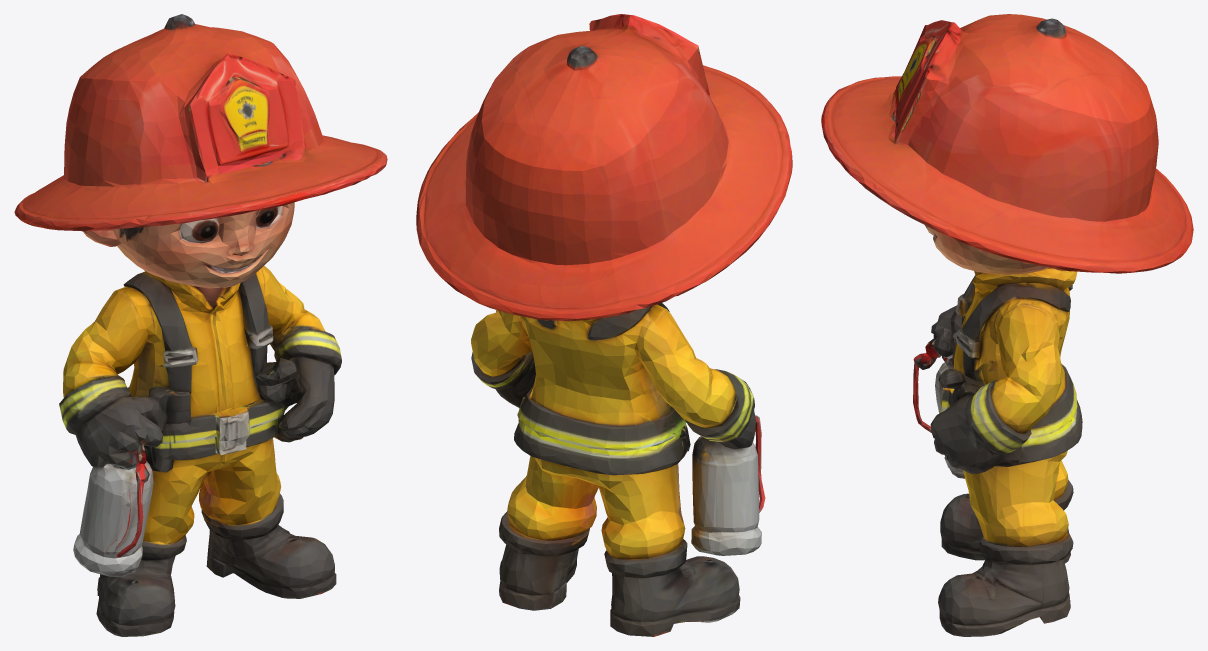
File: 카툰_느낌의_어린_0522005021_texture.fbx
3 renders of one model, left to right at view 1: azimuth 30°, elevation 25°; view 2: azimuth 150°, elevation 25°; view 3: azimuth 270°, elevation 25°, orthographic.
Parts seen in each view (by area): view 1: temp; view 2: temp; view 3: temp.
Part boxes in pixels (box(x1,y1,x2,y2)): temp: box(14, 14, 387, 636); temp: box(416, 14, 792, 636); temp: box(821, 14, 1193, 636).
Size of the model in its own units: 120 by 199 by 120.
1 material, 1 textured.
